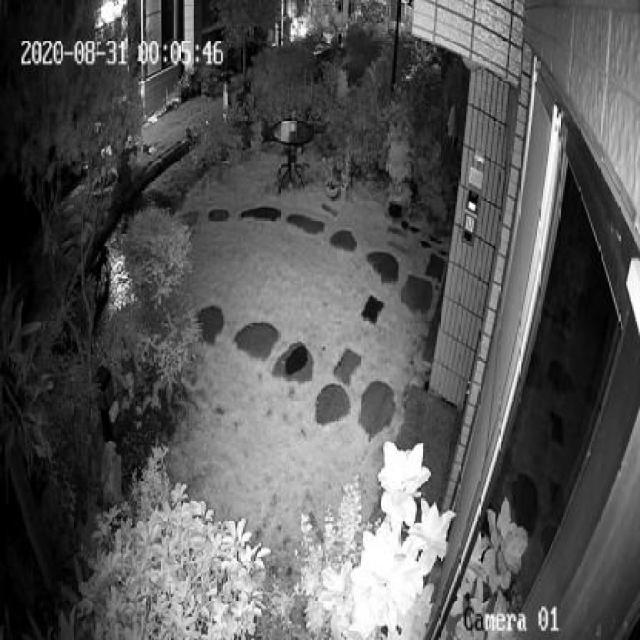animals: (92, 240, 115, 297)
